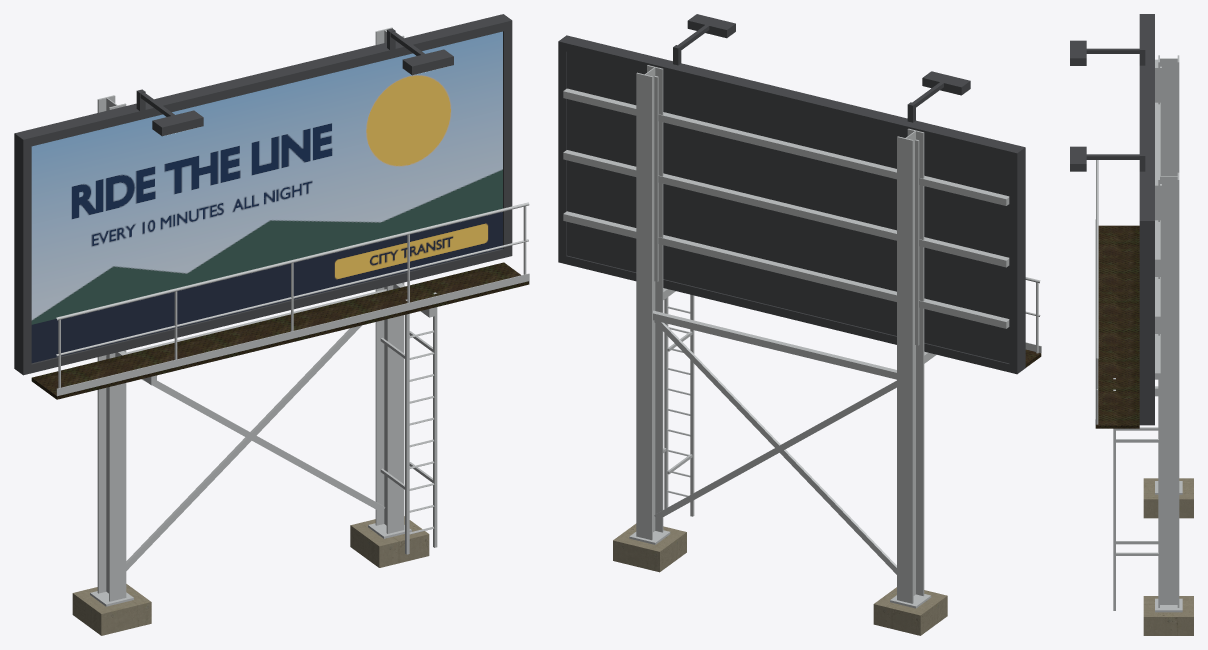
The model's file is billboard.glb.
The picture shows the model from 3 angles, left to right: view 1: azimuth 30°, elevation 25°; view 2: azimuth 150°, elevation 25°; view 3: azimuth 270°, elevation 25°; orthographic projection. The views are drawn at different scales.
Parts seen in each view (by area): view 1: Poster_0, billboard_body; view 2: billboard_body; view 3: billboard_body.
Part boxes in pixels (bbox=[...]): Poster_0: bbox=[31, 31, 502, 363]; billboard_body: bbox=[14, 14, 529, 635]; billboard_body: bbox=[558, 14, 1041, 635]; billboard_body: bbox=[1070, 14, 1193, 635].
Bounding box in the file's own units: 0.352 × 0.3685 × 0.089.
Materials: 5 (4 with a texture image).
